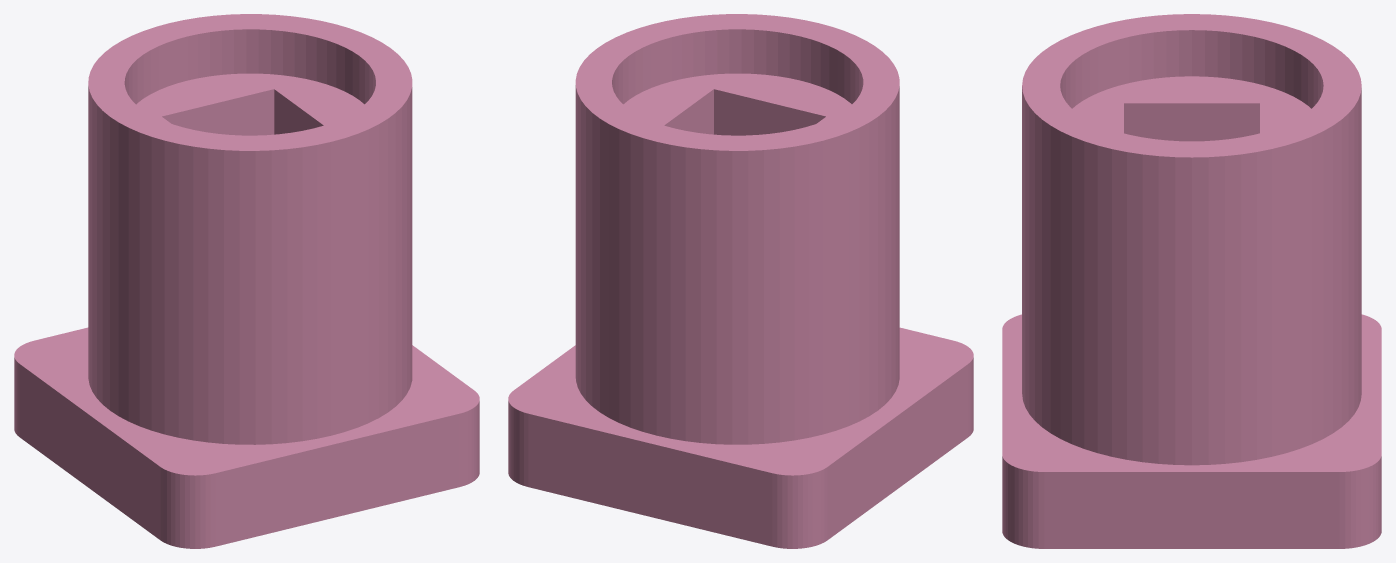
File: Nav Switch to MX Keycap Adaptor (destructive).glb
The picture shows the model from 3 angles, left to right: view 1: azimuth 30°, elevation 25°; view 2: azimuth 150°, elevation 25°; view 3: azimuth 270°, elevation 25°; orthographic projection. The views are drawn at different scales.
Parts seen in each view (by area): view 1: Mesh_Mesh_head_geo.001_lambert2SG.001; view 2: Mesh_Mesh_head_geo.001_lambert2SG.001; view 3: Mesh_Mesh_head_geo.001_lambert2SG.001.
Boxes of the visible parts, x1,y1,x2,y2 form: Mesh_Mesh_head_geo.001_lambert2SG.001: [14, 14, 479, 548]; Mesh_Mesh_head_geo.001_lambert2SG.001: [508, 14, 973, 548]; Mesh_Mesh_head_geo.001_lambert2SG.001: [1002, 14, 1381, 548].
Bounding box in the file's own units: 8.94 × 10 × 8.94.
